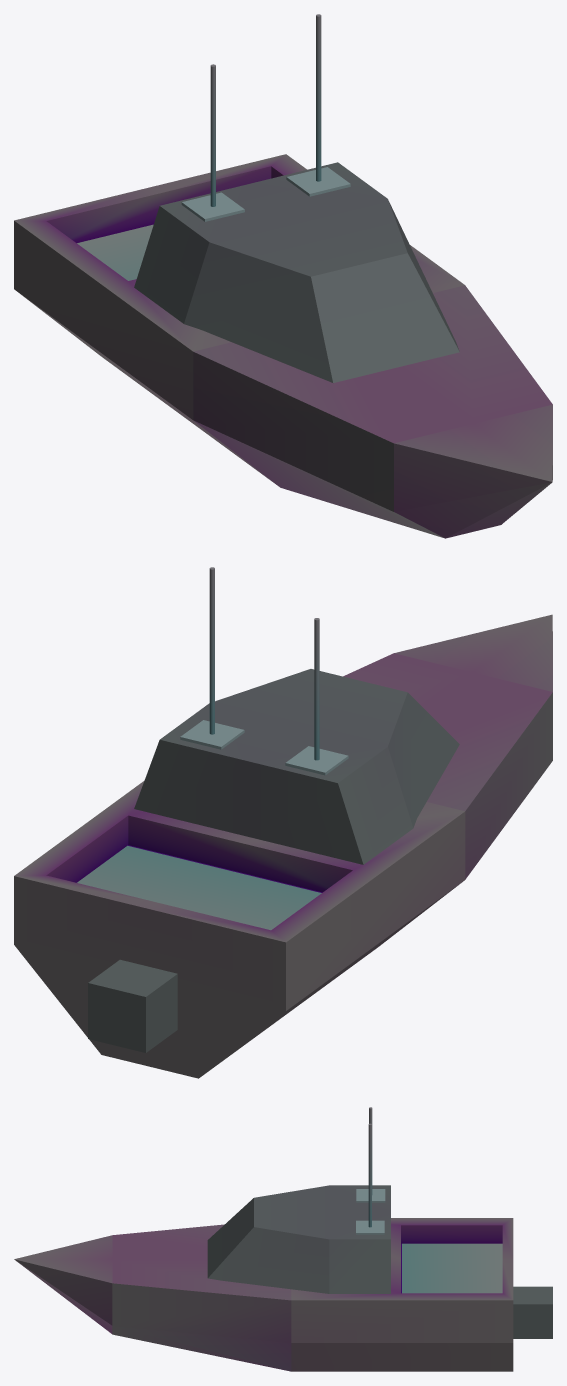
3 views of the same model, one above another, from view 1: azimuth 30°, elevation 25°; view 2: azimuth 150°, elevation 25°; view 3: azimuth 270°, elevation 25° (orthographic). The views are drawn at different scales.
Parts seen in each view (by area): view 1: aft_hull, cabin, well_floor, mount, mount.001, rod, rod.001; view 2: aft_hull, cabin, well_floor, stern_box, mount, mount.001, rod, rod.001; view 3: aft_hull, cabin, well_floor, stern_box, rod, mount, mount.001.
Part boxes in pixels (x1,y1,x2,y2): aft_hull: (14, 154, 552, 538); cabin: (134, 162, 459, 382); well_floor: (77, 224, 153, 280); mount: (286, 167, 350, 196); mount.001: (181, 192, 244, 221); rod: (316, 14, 321, 181); rod.001: (210, 64, 215, 206); aft_hull: (14, 614, 552, 1078); cabin: (134, 669, 459, 864); well_floor: (77, 845, 321, 930); stern_box: (88, 959, 177, 1052); mount: (180, 720, 244, 749); mount.001: (285, 746, 348, 775); rod: (209, 567, 214, 734); rod.001: (314, 618, 319, 760); aft_hull: (14, 1218, 513, 1371); cabin: (207, 1185, 390, 1293); well_floor: (402, 1243, 502, 1293); stern_box: (513, 1286, 552, 1338); rod: (368, 1123, 371, 1227); mount: (356, 1220, 384, 1234); mount.001: (356, 1189, 385, 1202).
Size of the model in its own units: 2.53 by 3.56 by 7.
